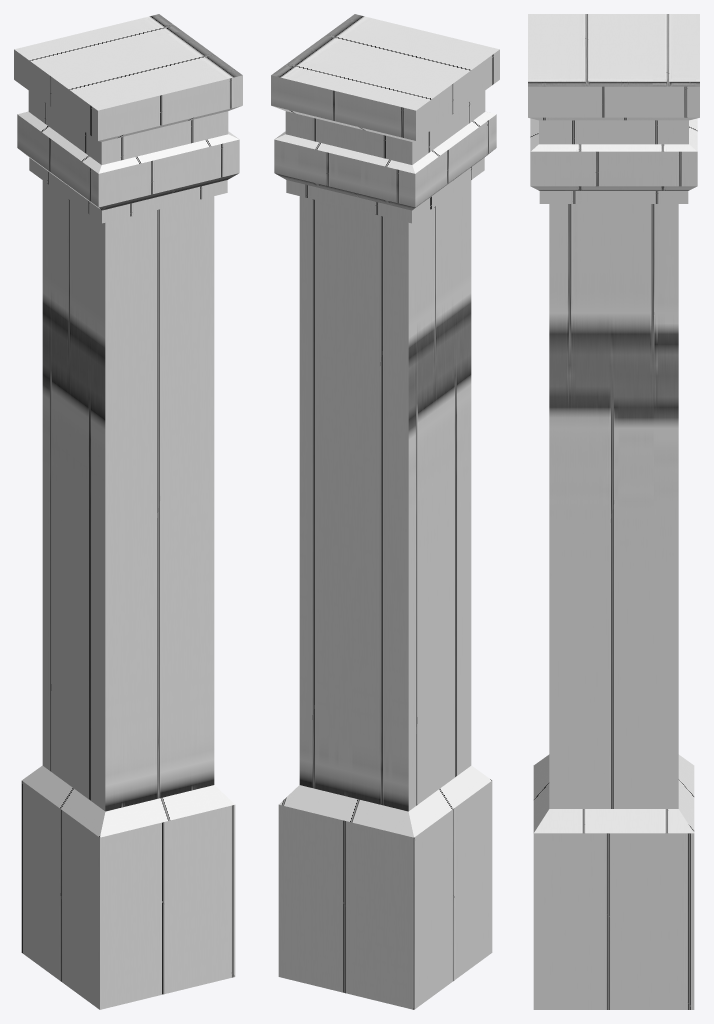
File: Column.fbx
3 views of the same model, side by side, from view 1: azimuth 30°, elevation 25°; view 2: azimuth 150°, elevation 25°; view 3: azimuth 270°, elevation 25° (orthographic). The views are drawn at different scales.
Parts seen in each view (by area): view 1: Column; view 2: Column; view 3: Column.
Part boxes in pixels (x1,y1,x2,y2): Column: (14,14,242,1009); Column: (271,14,499,1009); Column: (528,14,699,1009).
Bounding box in the file's own units: 58.57 × 348 × 58.57.
Materials: 2 (2 with a texture image).
